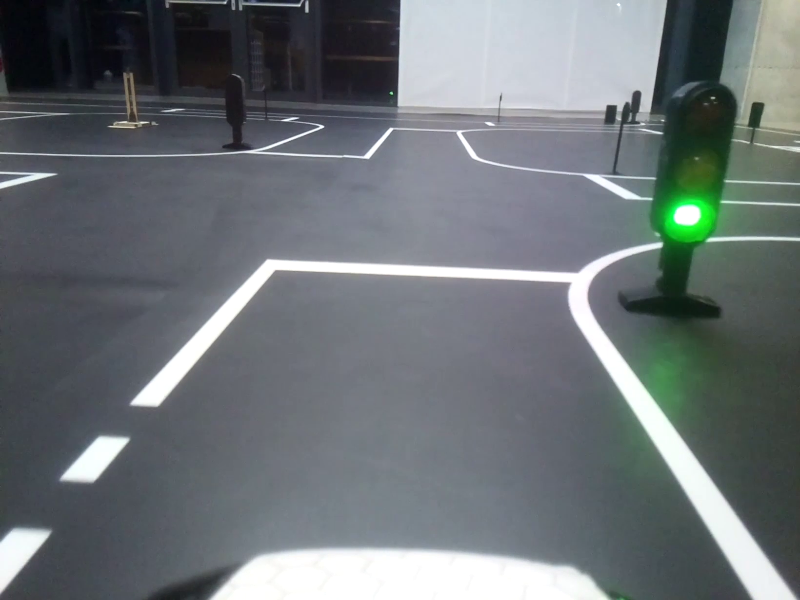traffic_green: (665, 85, 724, 246)
